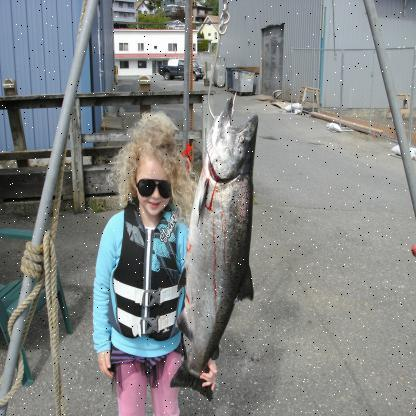fish: (170, 93, 260, 397)
